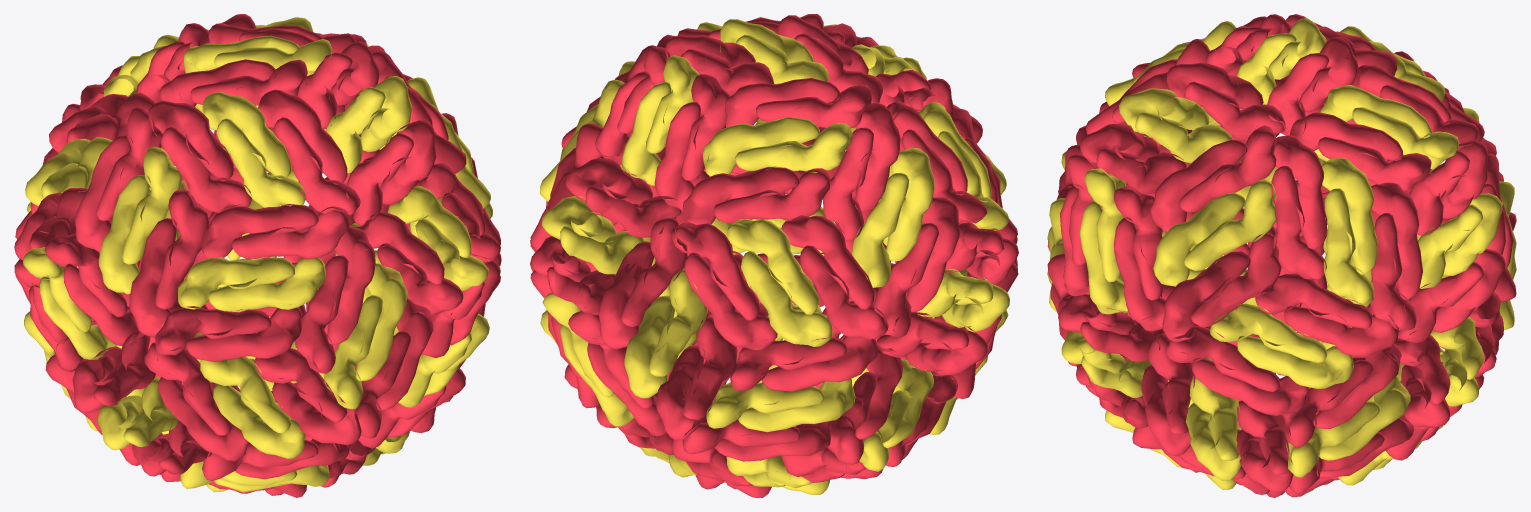
The picture shows the model from 3 angles, left to right: view 1: azimuth 30°, elevation 25°; view 2: azimuth 150°, elevation 25°; view 3: azimuth 270°, elevation 25°; orthographic projection.
Bounding box in the file's own units: 51.71 × 51.7 × 51.69.
